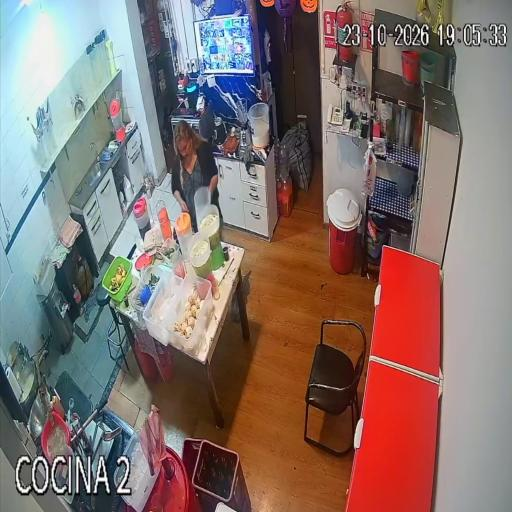Envase Llajua: (47, 395, 64, 417)
Jarra1: (133, 197, 150, 241)
Jarra2: (175, 213, 193, 259)
Jarra3: (194, 186, 210, 221)
Microondas: (171, 104, 214, 140)
Persona3: (171, 121, 219, 229)
Taper2: (130, 272, 154, 312)
Taper3: (143, 272, 183, 345)
Taper4: (163, 274, 214, 359)
